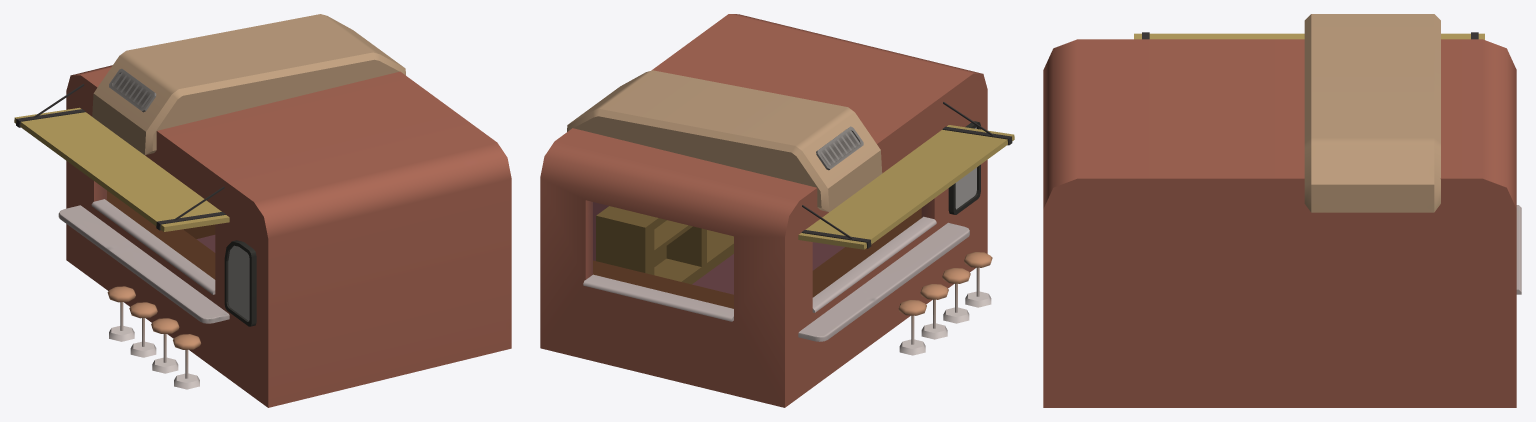
Rendered from Foodstand_06.fbx.
The picture shows the model from 3 angles, left to right: view 1: azimuth 30°, elevation 25°; view 2: azimuth 150°, elevation 25°; view 3: azimuth 270°, elevation 25°; orthographic projection. The views are drawn at different scales.
Visible parts, largest first — view 1: Foodstand_06; view 2: Foodstand_06; view 3: Foodstand_06.
Part boxes in pixels (bbox=[...]): Foodstand_06: bbox=[14, 14, 511, 407]; Foodstand_06: bbox=[540, 14, 1014, 407]; Foodstand_06: bbox=[1043, 14, 1521, 407].
Size of the model in its own units: 15.11 by 10.36 by 16.69.
1 material, 1 textured.
